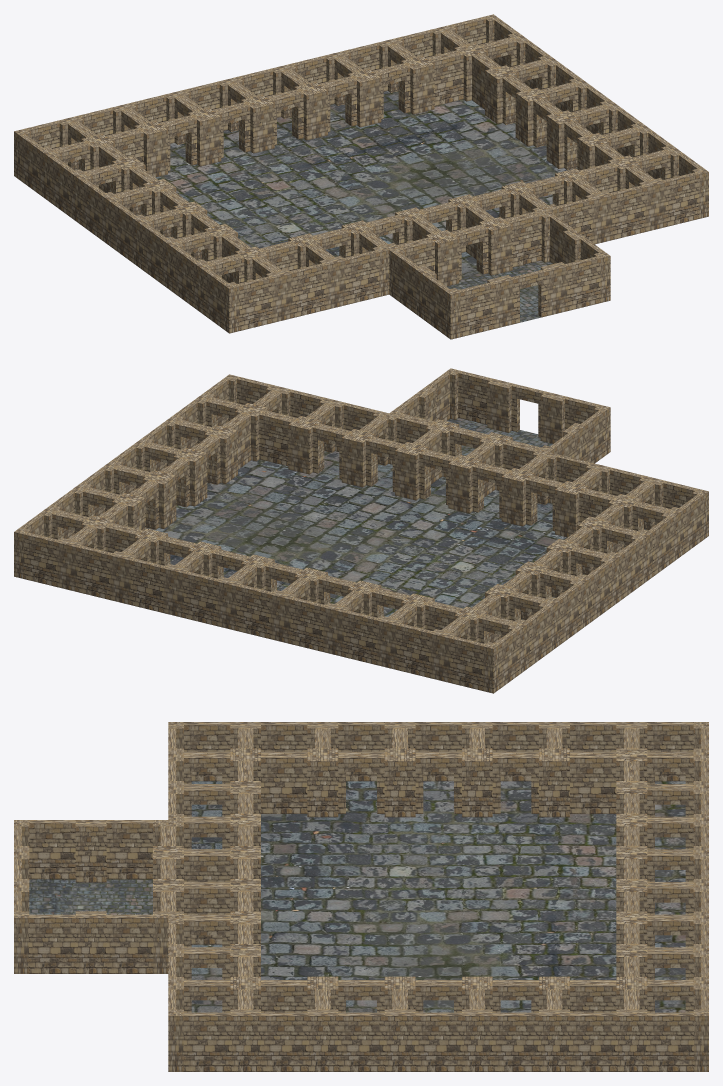
File: 1_firstFloorBossRoom.fbx
The picture shows the model from 3 angles, top to bottom: view 1: azimuth 30°, elevation 25°; view 2: azimuth 150°, elevation 25°; view 3: azimuth 270°, elevation 25°; orthographic projection. The views are drawn at different scales.
Visible parts, largest first — view 1: Cube_124, Plane_1; view 2: Cube_124, Plane_1; view 3: Cube_124, Plane_1.
Part boxes in pixels (bbox=[...]): Cube_124: bbox=[14, 14, 708, 339]; Plane_1: bbox=[74, 91, 577, 322]; Cube_124: bbox=[14, 368, 708, 693]; Plane_1: bbox=[145, 418, 647, 620]; Cube_124: bbox=[14, 722, 708, 1071]; Plane_1: bbox=[29, 781, 685, 1012].
Size of the model in its own units: 90 by 8 by 90.
2 materials, 2 textured.
